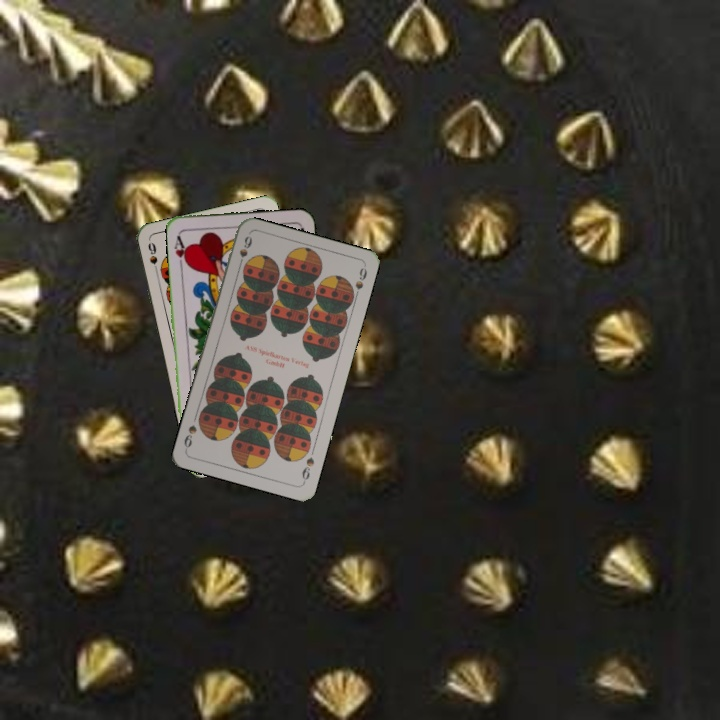HA: (170, 230, 191, 270)
S9: (234, 232, 255, 271), (144, 238, 161, 278), (298, 453, 317, 485)
